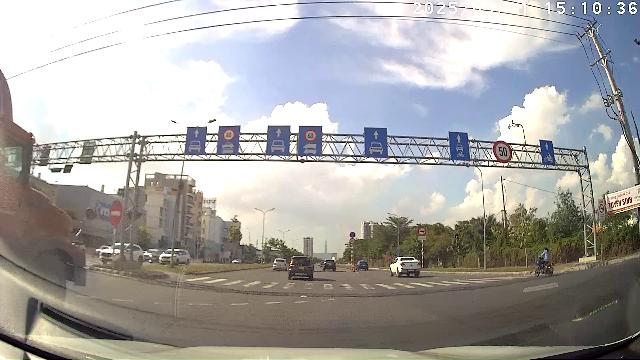127-toc-do-toi-da-50: (493, 140, 513, 163)
127-toc-do-toi-da-60: (303, 128, 318, 142)
127-toc-do-toi-da-80: (222, 128, 236, 141)
